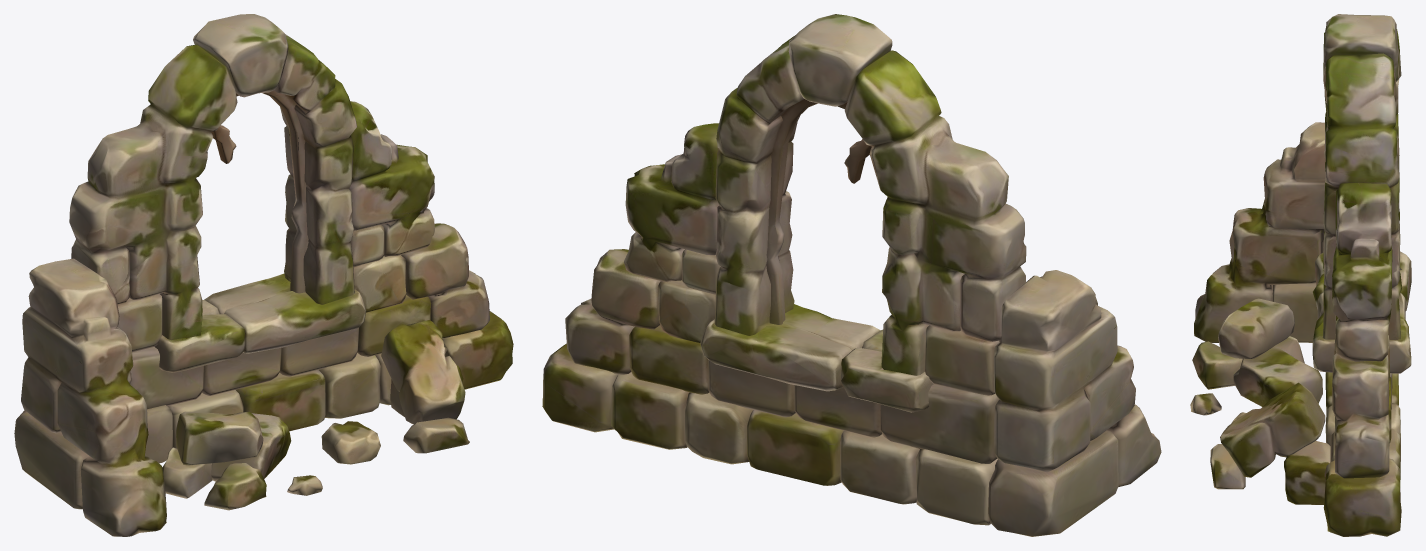
The model's file is ruined_arch.glb.
3 views of the same model, side by side, from view 1: azimuth 30°, elevation 25°; view 2: azimuth 150°, elevation 25°; view 3: azimuth 270°, elevation 25° (orthographic). The views are drawn at different scales.
Visible parts, largest first — view 1: geometry_0; view 2: geometry_0; view 3: geometry_0.
Part boxes in pixels (left/top/right/bottom): geometry_0: left=14, top=14, right=513, bottom=536; geometry_0: left=542, top=14, right=1161, bottom=536; geometry_0: left=1190, top=14, right=1411, bottom=536.
Size of the model in its own units: 0.9565 by 0.7891 by 0.4009.
1 material, 1 textured.
